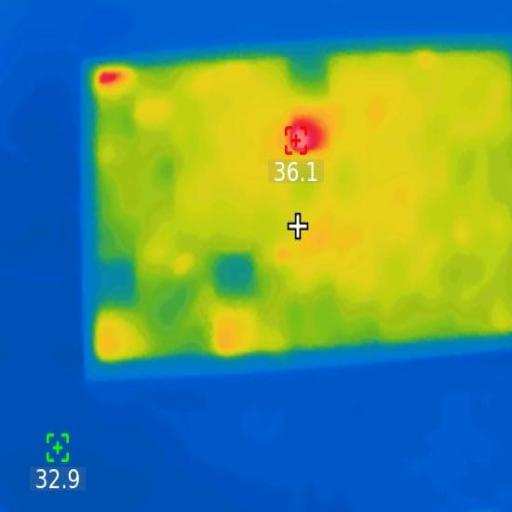hotspot: (290, 120, 328, 152), (98, 70, 127, 83)
